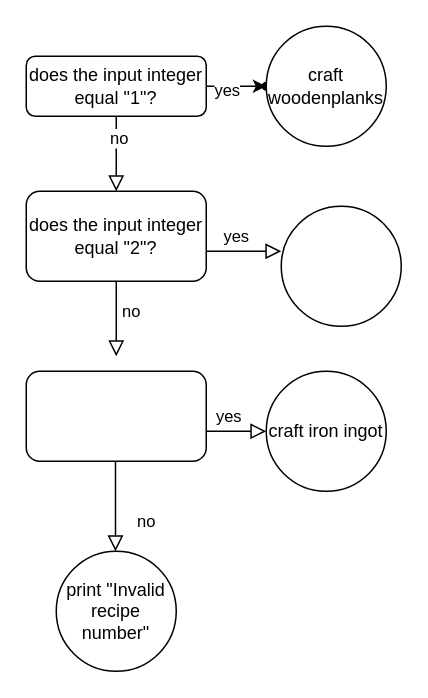
The diagram is 428 pixels wide and 698 high, and some of its shapes have lost their labels. The shapes that lost their labels are listed below. From the top down, each one's centre as x and y in pixels, then its label:
point (340, 265): craft stick
point (115, 415): does the input integer equal "3"?
